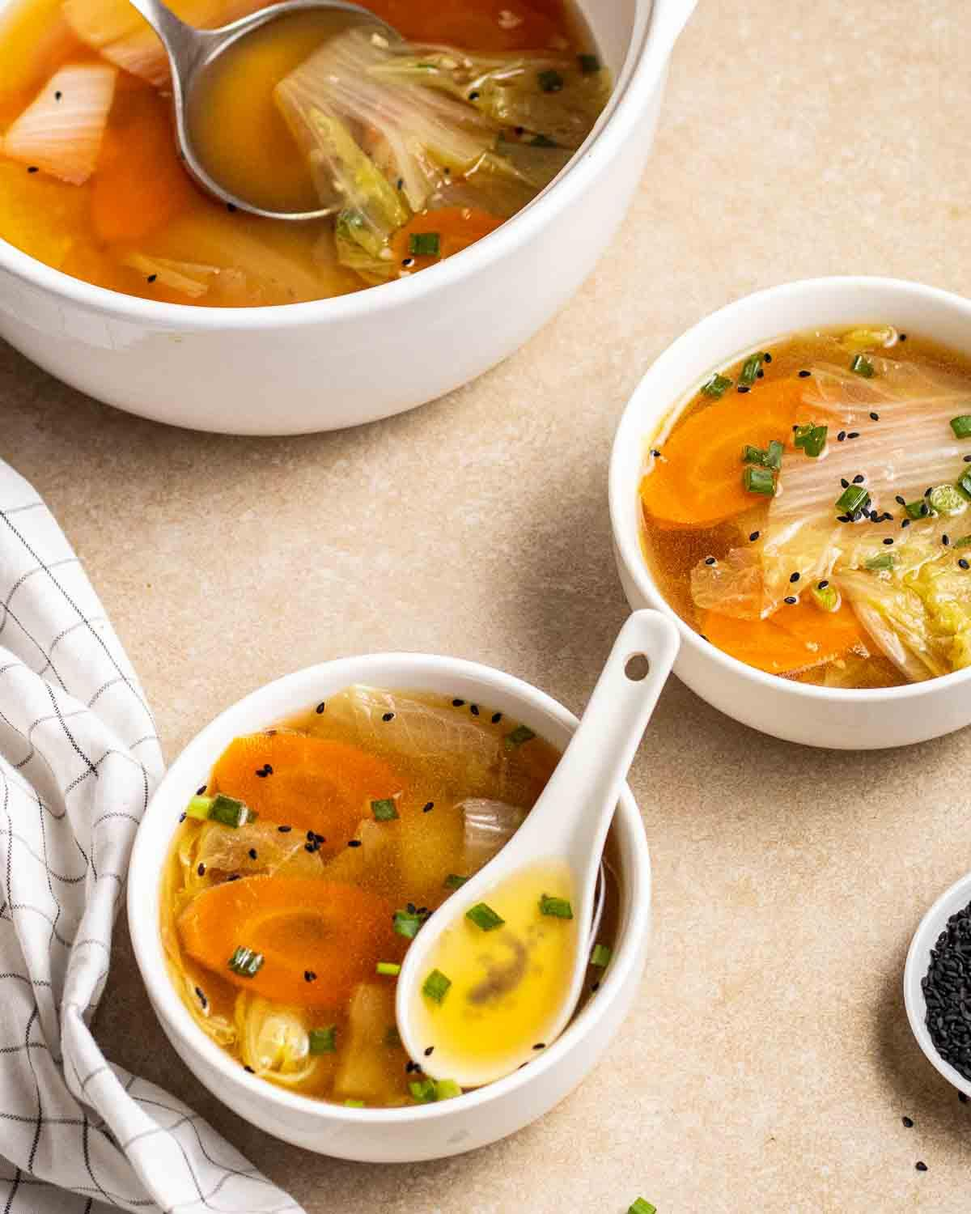Braised Crucian Carp: (0, 2, 680, 435), (121, 656, 651, 1171), (603, 274, 971, 732)
